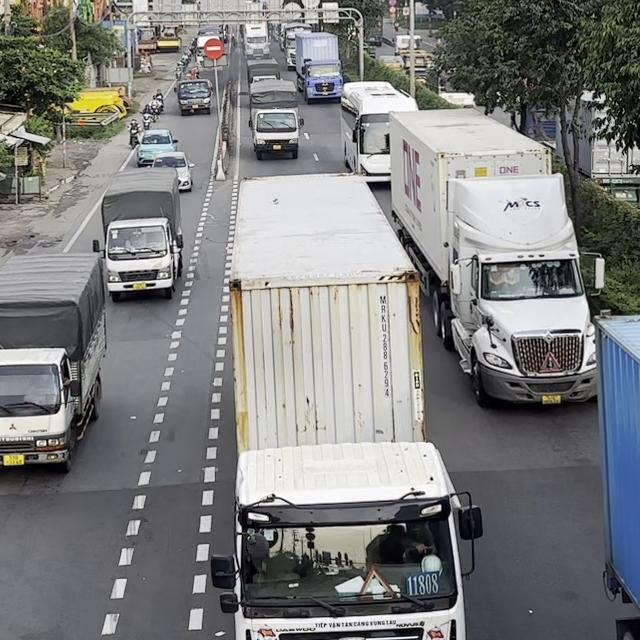bus: (339, 79, 419, 182)
car: (151, 150, 195, 191), (135, 128, 179, 167)
motorcycle: (127, 118, 142, 148), (149, 96, 163, 121), (141, 104, 153, 129)
truck: (209, 171, 484, 639), (388, 106, 604, 411), (0, 250, 107, 472), (593, 311, 639, 639), (92, 166, 184, 299), (248, 79, 304, 160), (293, 31, 343, 103), (282, 26, 312, 70), (177, 79, 212, 115), (243, 22, 270, 58), (246, 60, 281, 84)
